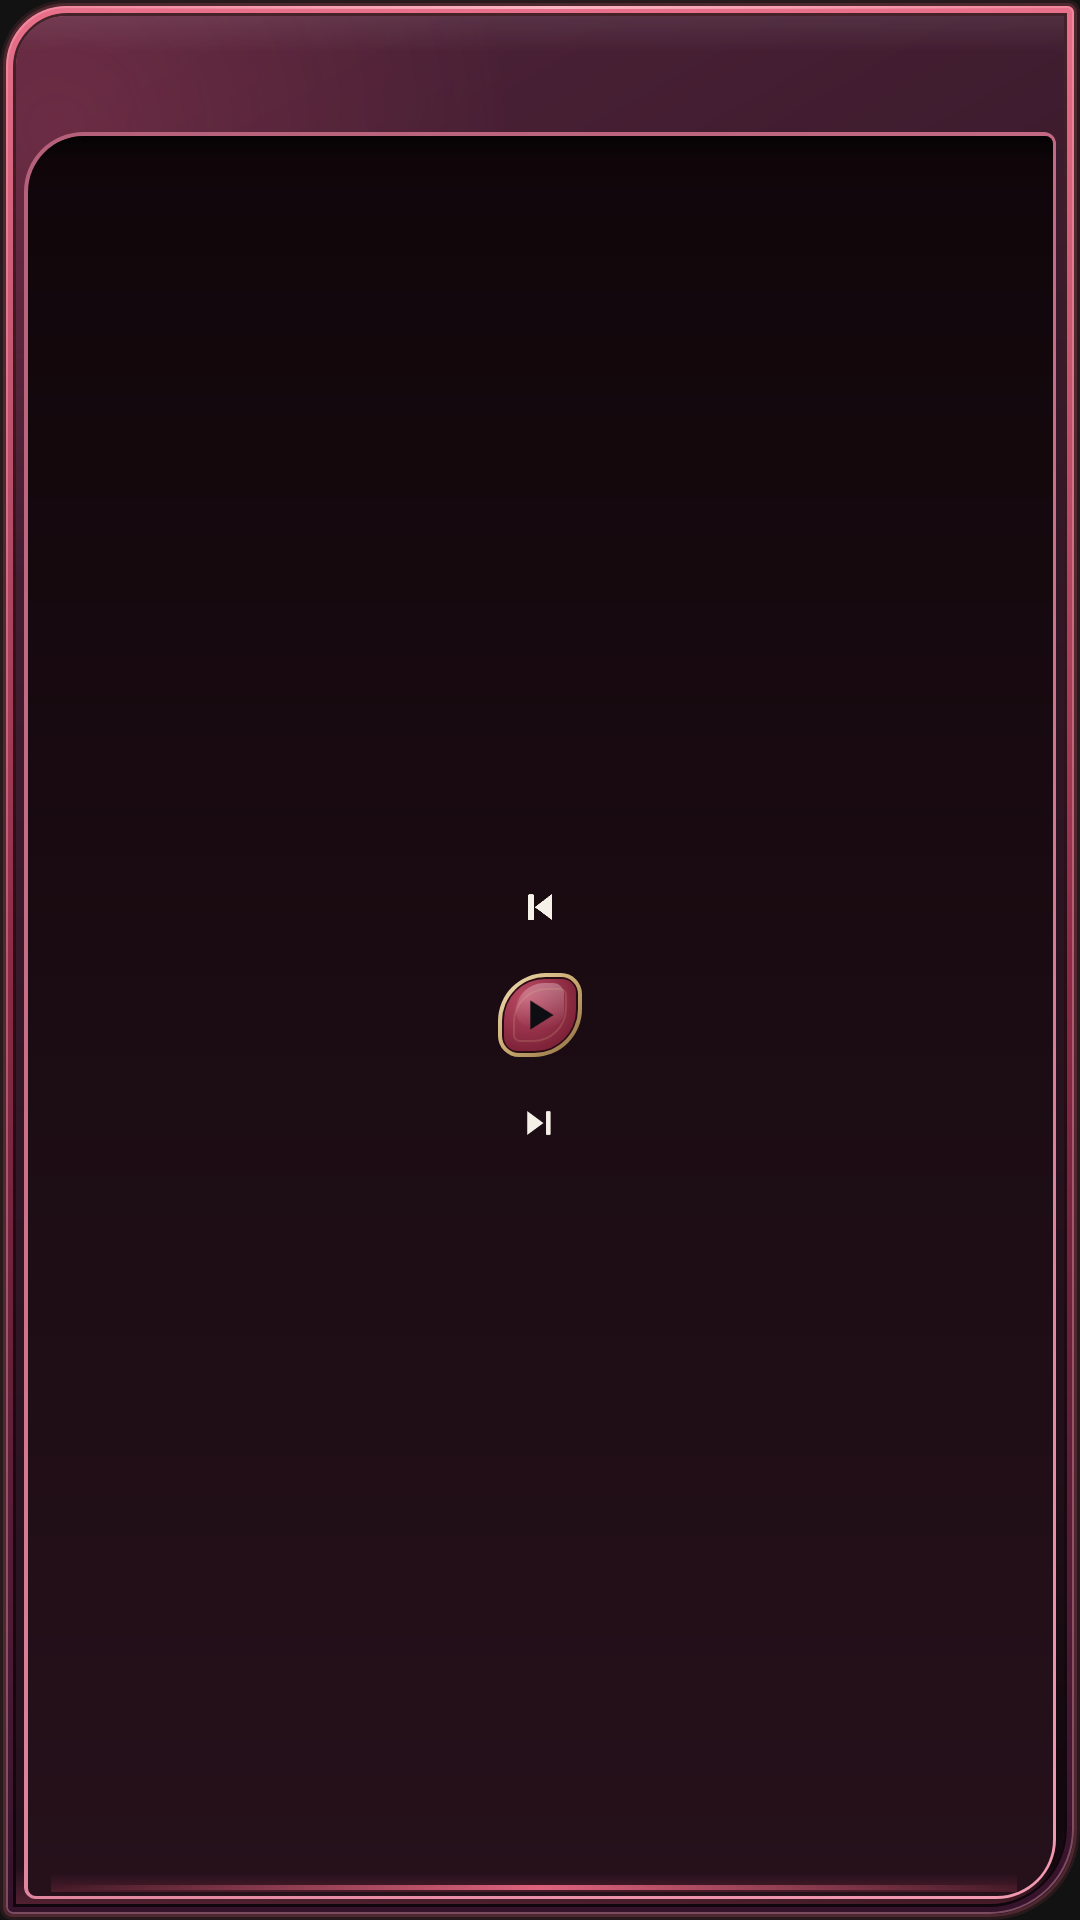

Icons on this 1080px×1920px Android screen, each with the point to tap as (x,y):
Berikutnya: (539,1123)
Putar: (540,1015)
Sebelumnya: (540,907)
